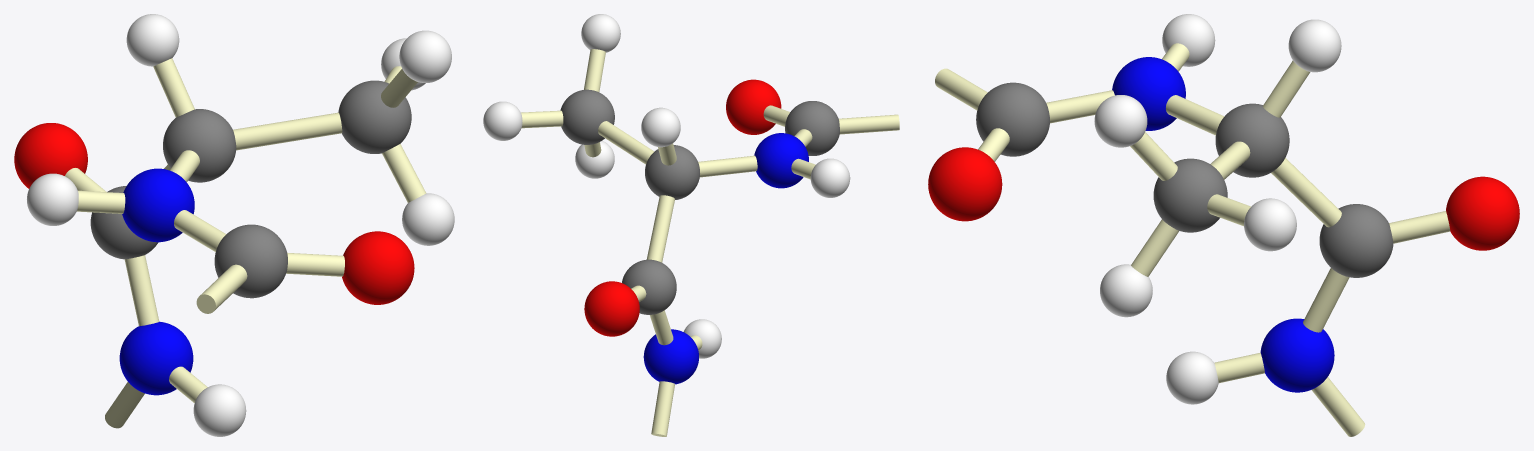
File: conformation.gltf
3 renders of one model, left to right at view 1: azimuth 30°, elevation 25°; view 2: azimuth 150°, elevation 25°; view 3: azimuth 270°, elevation 25°, orthographic. The views are drawn at different scales.
Parts seen in each view (by area): view 1: ?????????2, ?????????13, ?????????3, ?????????9, ?????????1, ?????????4, ?????????6, ?????????22, ?????????14, ?????????10, ?????????7, ?????????8 (+15 smaller); view 2: ?????????6, ?????????9, ?????????2, ?????????13, ?????????3, ?????????4, ?????????1, ?????????5, ?????????7, ?????????8, ?????????11, ?????????10 (+10 smaller); view 3: ?????????2, ?????????6, ?????????13, ?????????5, ?????????1, ?????????9, ?????????4, ?????????3, ?????????11, ?????????8, ?????????10, ?????????14 (+16 smaller).
Part boxes in pixels (x1,y1,x2,y2): ?????????2: [342, 231, 414, 304]; ?????????13: [119, 321, 193, 395]; ?????????3: [122, 168, 194, 242]; ?????????9: [338, 80, 411, 153]; ?????????1: [214, 224, 287, 298]; ?????????4: [163, 109, 236, 182]; ?????????6: [14, 123, 87, 188]; ?????????22: [233, 112, 342, 150]; ?????????14: [193, 384, 246, 436]; ?????????10: [399, 30, 451, 82]; ?????????7: [27, 173, 78, 225]; ?????????8: [126, 14, 179, 66]; ?????????6: [584, 281, 639, 336]; ?????????9: [560, 89, 614, 144]; ?????????2: [726, 79, 781, 134]; ?????????13: [643, 329, 698, 384]; ?????????3: [754, 133, 808, 188]; ?????????4: [645, 145, 699, 199]; ?????????1: [785, 101, 839, 155]; ?????????5: [622, 259, 676, 314]; ?????????7: [810, 158, 850, 197]; ?????????8: [641, 107, 680, 147]; ?????????11: [483, 101, 522, 140]; ?????????10: [581, 14, 620, 52]; ?????????2: [928, 147, 1002, 221]; ?????????6: [1446, 176, 1519, 250]; ?????????13: [1260, 318, 1334, 392]; ?????????5: [1319, 204, 1393, 277]; ?????????1: [976, 82, 1049, 156]; ?????????9: [1153, 158, 1227, 232]; ?????????4: [1215, 103, 1289, 177]; ?????????3: [1112, 57, 1185, 130]; ?????????11: [1244, 198, 1296, 251]; ?????????8: [1288, 19, 1341, 72]; ?????????10: [1094, 95, 1147, 147]; ?????????14: [1166, 351, 1218, 404].
Bounding box in the file's own units: 48.29 × 45.09 × 55.88.
